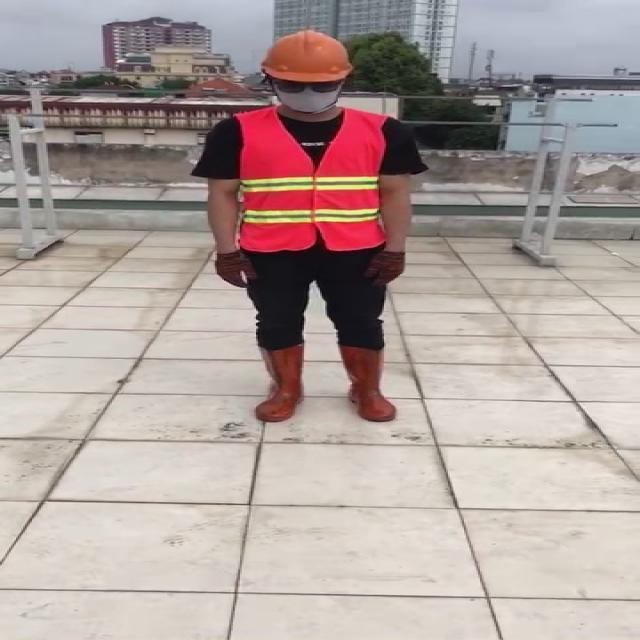gloves: (362, 239, 410, 288), (214, 239, 256, 292)
goggles: (268, 69, 341, 100)
helmet: (258, 27, 356, 90)
safety_vest: (234, 110, 384, 254)
